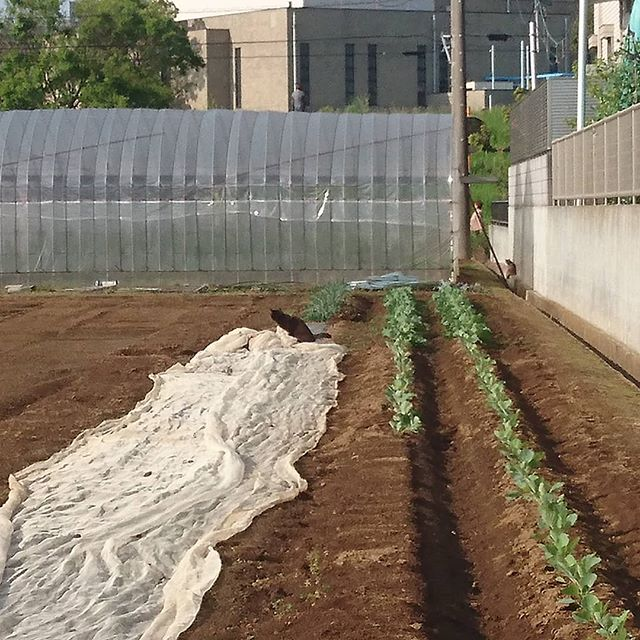building: (194, 1, 562, 121)
tree: (1, 1, 191, 119)
